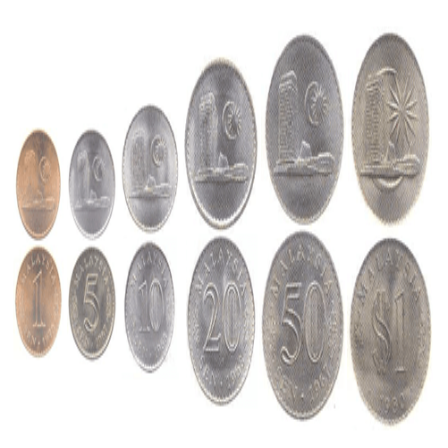10: (124, 243, 175, 375)
1c: (15, 245, 63, 358)
1r: (350, 238, 432, 426)
20: (187, 238, 258, 404)
5: (68, 245, 117, 362)
50: (262, 230, 344, 424)
